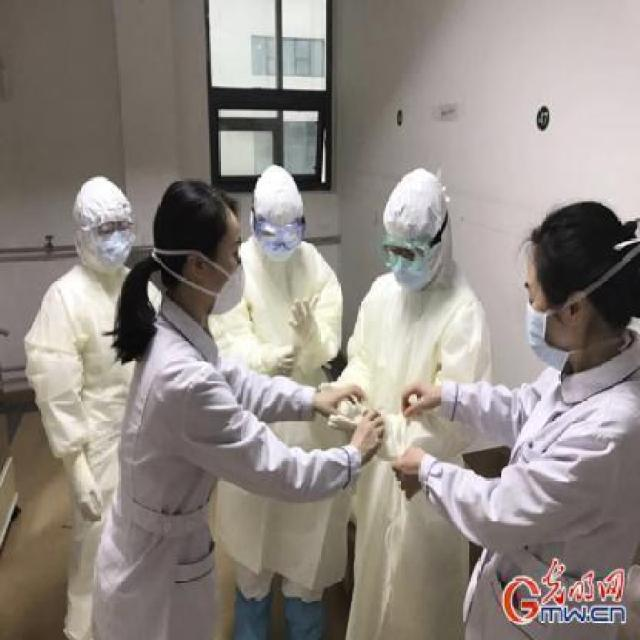face_mask: (490, 248, 588, 382), (188, 214, 246, 320)
glasses: (253, 215, 307, 254), (377, 237, 428, 275), (90, 214, 138, 246)
hand_glove: (68, 457, 104, 525), (288, 292, 323, 338), (274, 343, 301, 377)
hand_noglove: (350, 409, 384, 466), (397, 377, 441, 421), (394, 448, 428, 500), (317, 383, 366, 419)
head_nohelmet: (516, 202, 606, 304), (156, 179, 244, 263)
person: (97, 169, 288, 640), (458, 194, 640, 640)
